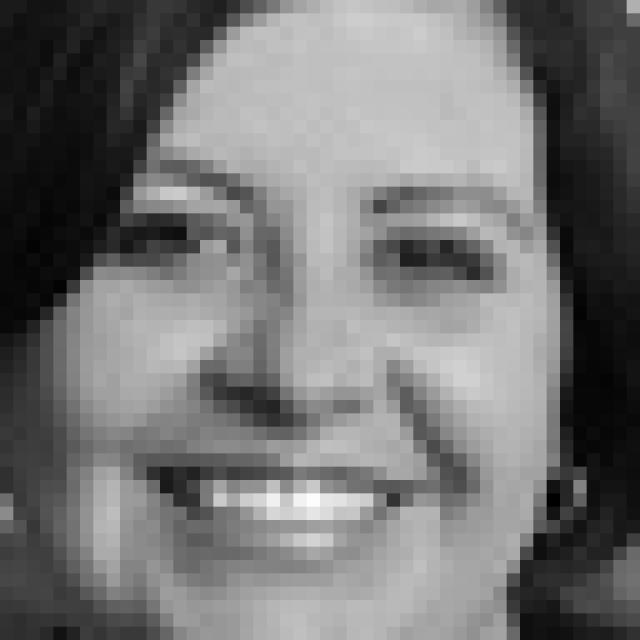happy: (107, 148, 539, 573)
